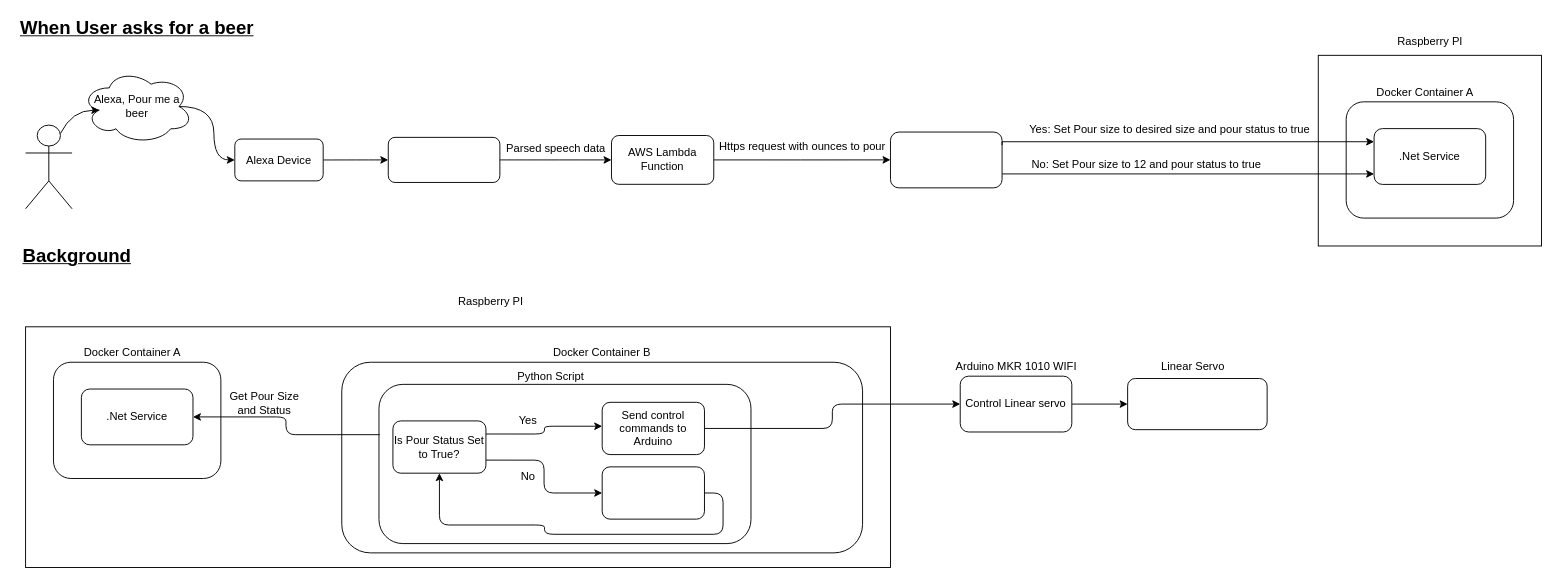
Image size: 1558x584. Some labels were removed from this diagram. Each missing label, with the box of its shape:
Alexa Beer Service Kit: (387, 136, 500, 182)
Is there a specified size to pour?: (890, 131, 1002, 188)
Move beer tap handle: (1127, 378, 1267, 430)
Wait until Status is set to true: (601, 466, 704, 519)
